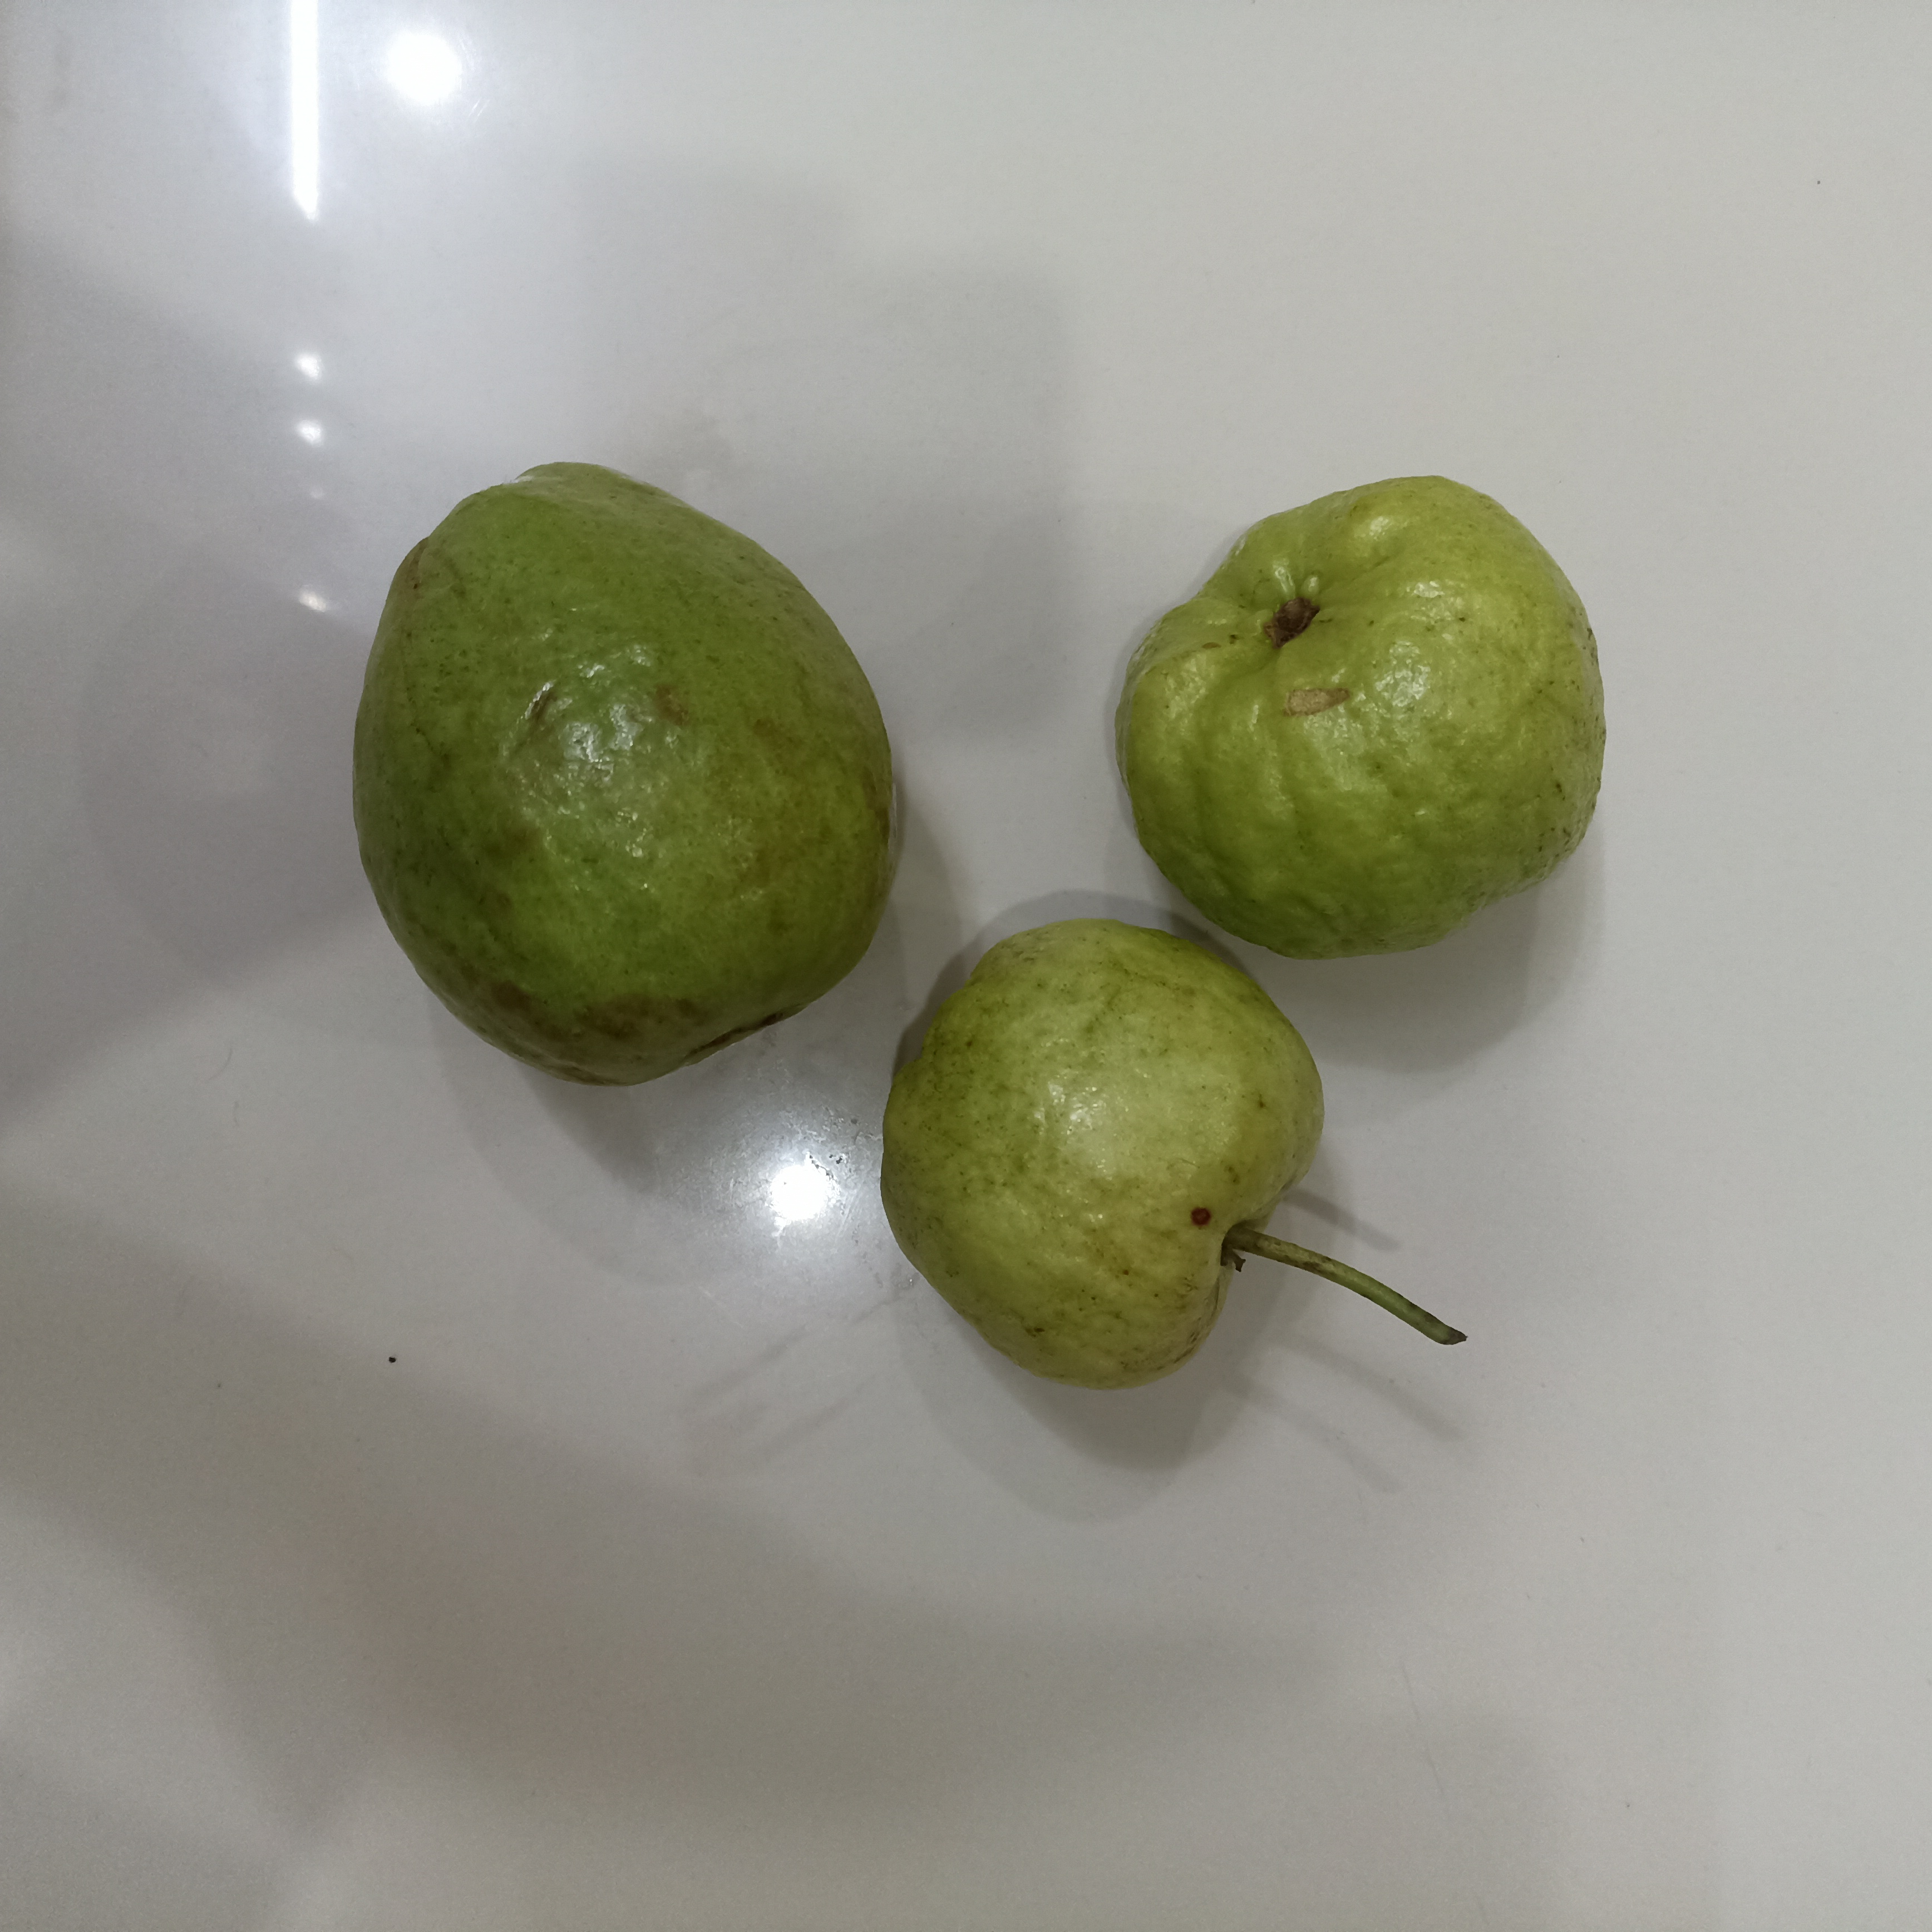Oi: (354, 458, 895, 1092), (1111, 474, 1610, 968), (874, 922, 1332, 1391)
